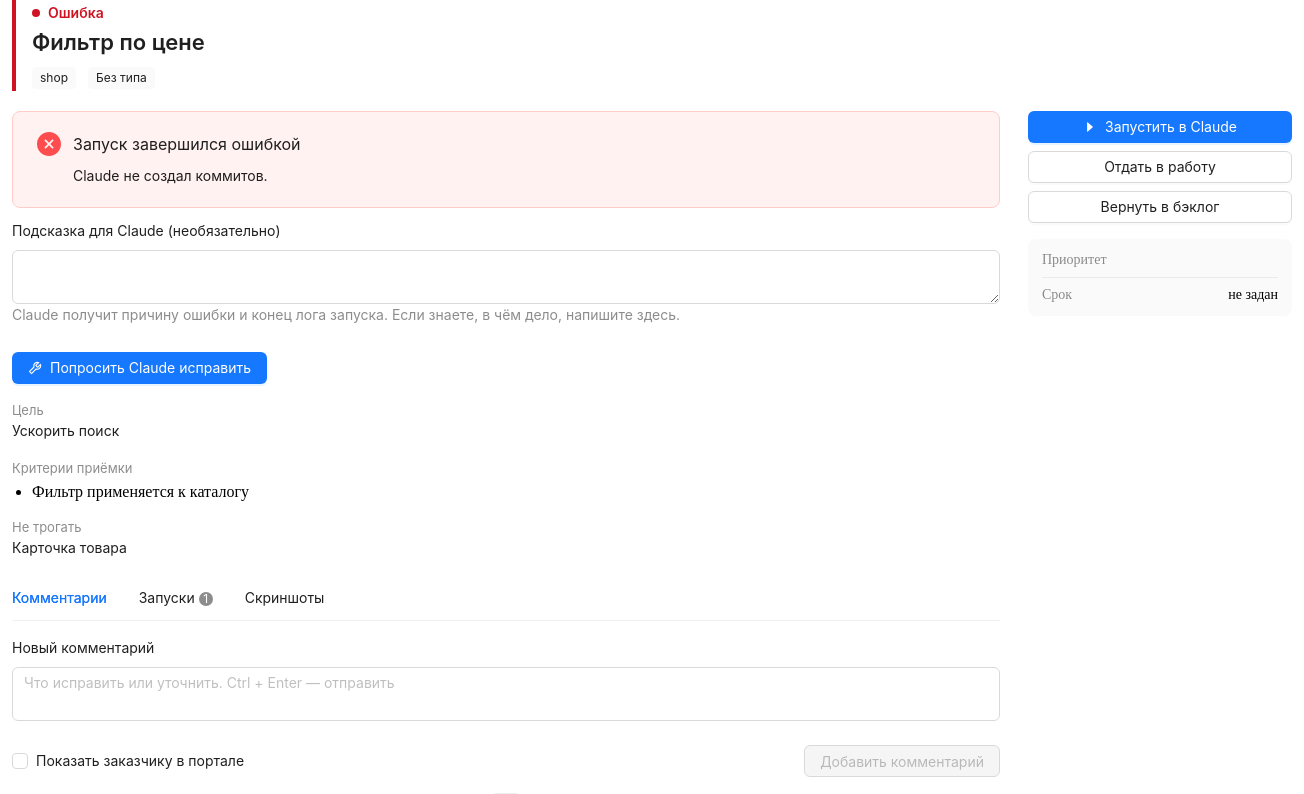
Test: TaskDetail: ошибка запуска › показывает ошибку сервера и не теряет введённую подсказку
Step 1. Type "смотри лог" into the text box labelled "Подсказка для Claude (необязательно)" → (506,277), box [12,250,1000,304]
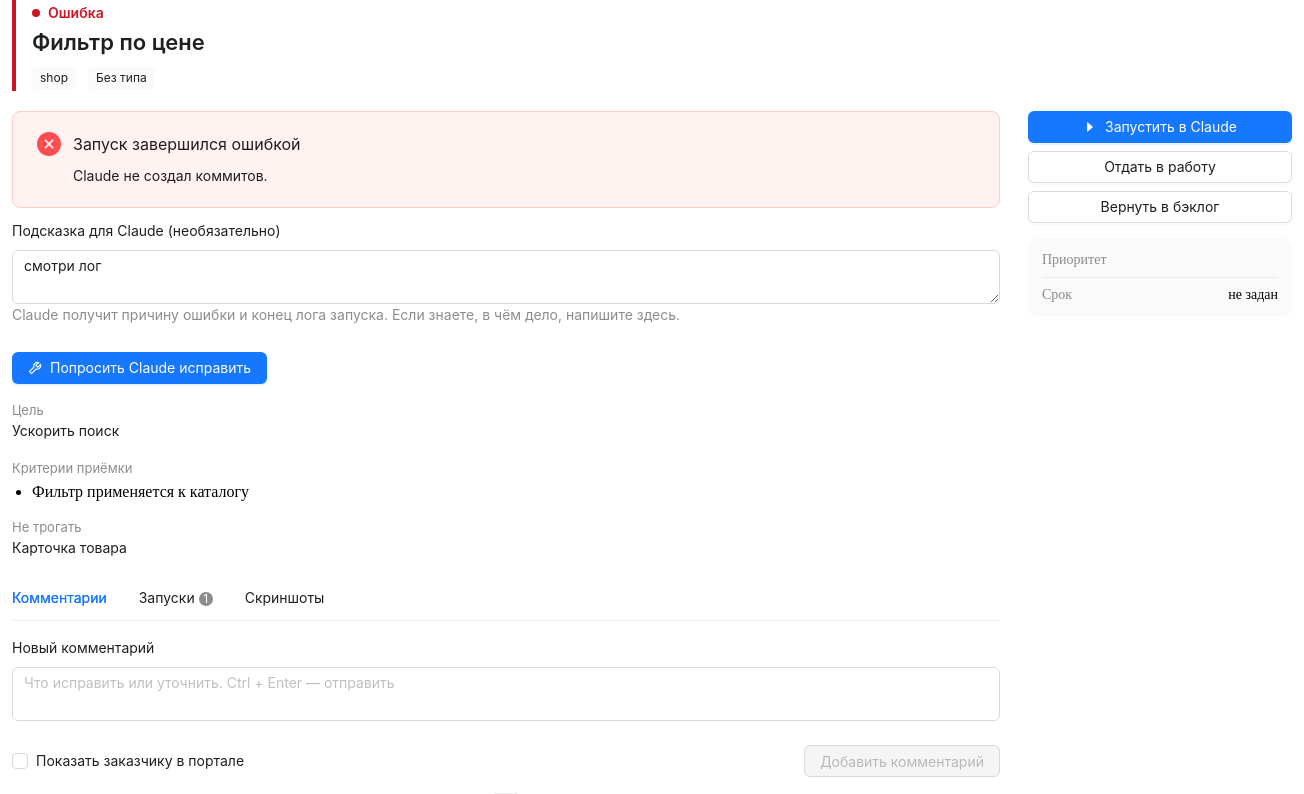
Step 2. Click the button "Попросить Claude исправить" → (140,368), box [12,352,267,384]
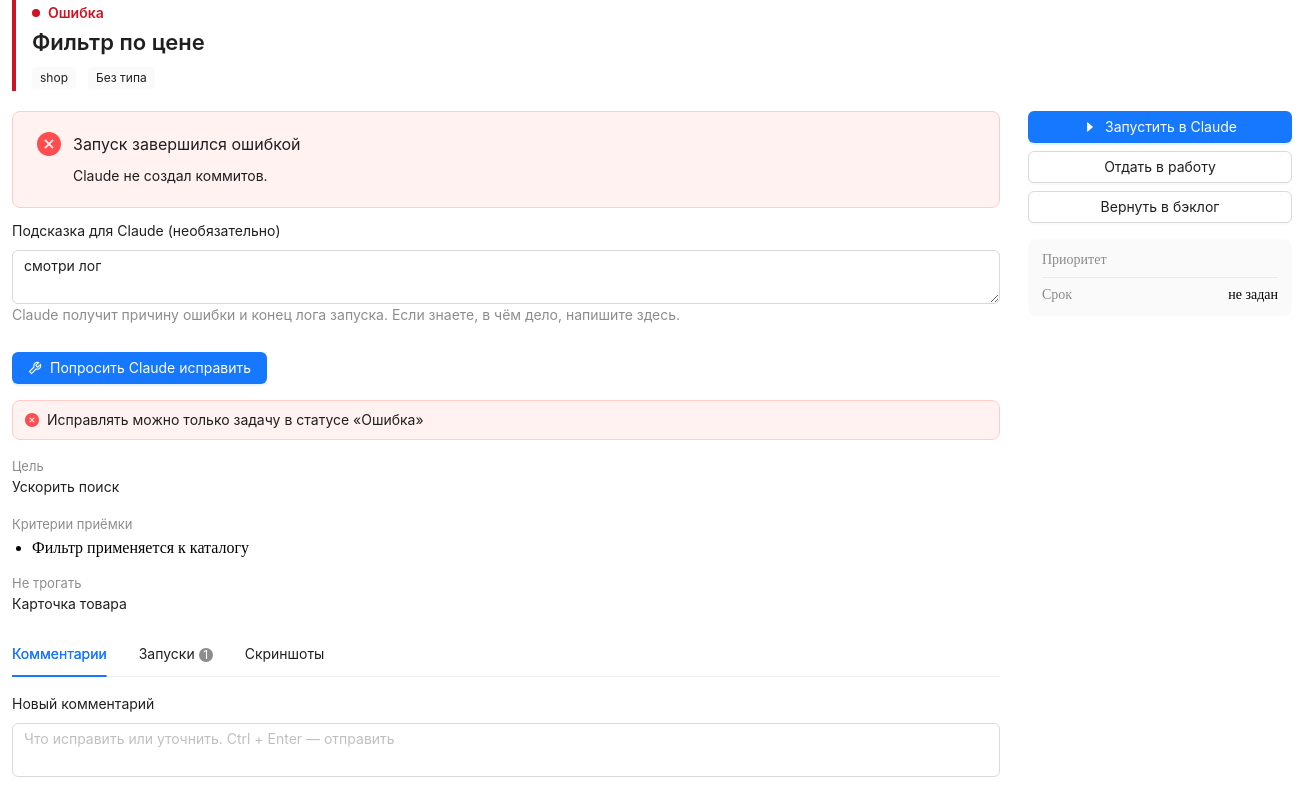
Check: the text "Исправлять можно только задачу в статусе «Ошибка»" is shown, box [47,411,424,428]
